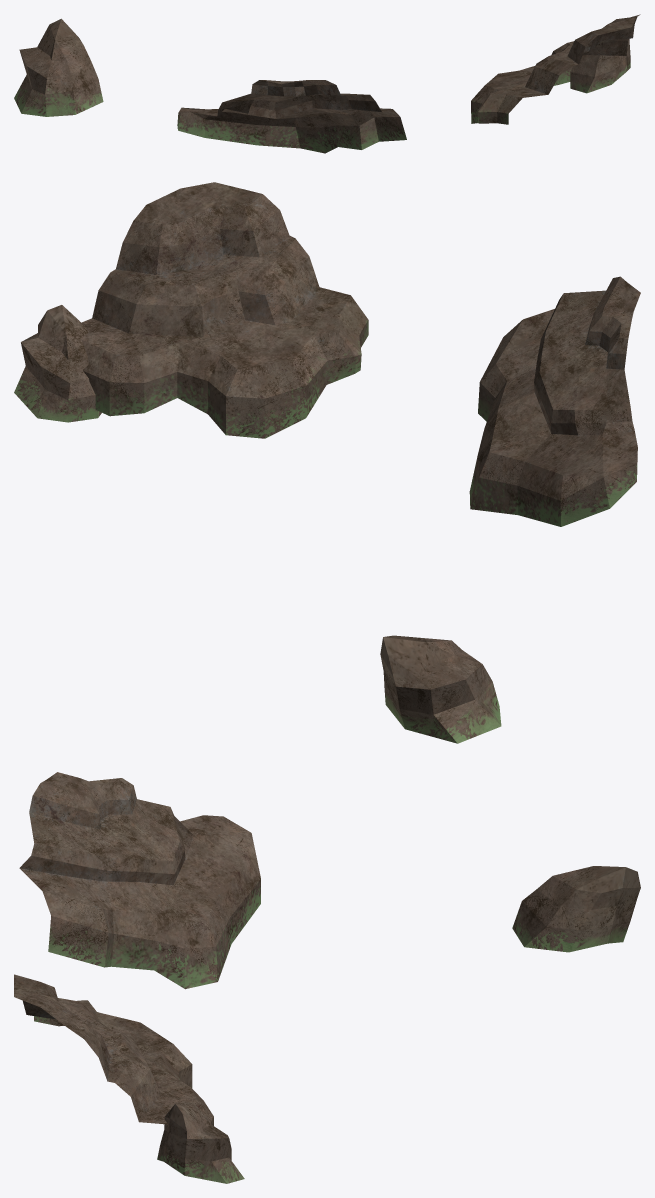
File: BgMD_rock_tutorial04_01.fbx
The picture shows the model from 3 angles, top to bottom: view 1: azimuth 30°, elevation 25°; view 2: azimuth 150°, elevation 25°; view 3: azimuth 270°, elevation 25°; orthographic projection. The views are drawn at different scales.
Visible parts, largest first — view 1: rock_tutorial04_01_3, rock_tutorial04_01_4, rock_tutorial04_01_2, rock_tutorial04_01_1; view 2: rock_tutorial04_01_2, rock_tutorial04_01_3, rock_tutorial04_01_4, rock_tutorial04_01_1; view 3: rock_tutorial04_01_3, rock_tutorial04_01_2, rock_tutorial04_01_4, rock_tutorial04_01_1.
Part boxes in pixels (<box>): rock_tutorial04_01_3: <box>177,80,406,153</box>; rock_tutorial04_01_4: <box>14,18,103,116</box>; rock_tutorial04_01_2: <box>471,14,640,124</box>; rock_tutorial04_01_1: <box>570,39,630,93</box>; rock_tutorial04_01_2: <box>81,182,368,438</box>; rock_tutorial04_01_3: <box>469,276,640,526</box>; rock_tutorial04_01_4: <box>380,635,501,743</box>; rock_tutorial04_01_1: <box>14,305,101,422</box>; rock_tutorial04_01_3: <box>19,772,260,989</box>; rock_tutorial04_01_2: <box>14,974,213,1125</box>; rock_tutorial04_01_4: <box>512,866,640,952</box>; rock_tutorial04_01_1: <box>157,1103,244,1183</box>.
Size of the model in its own units: 11134 by 3405 by 9484.
